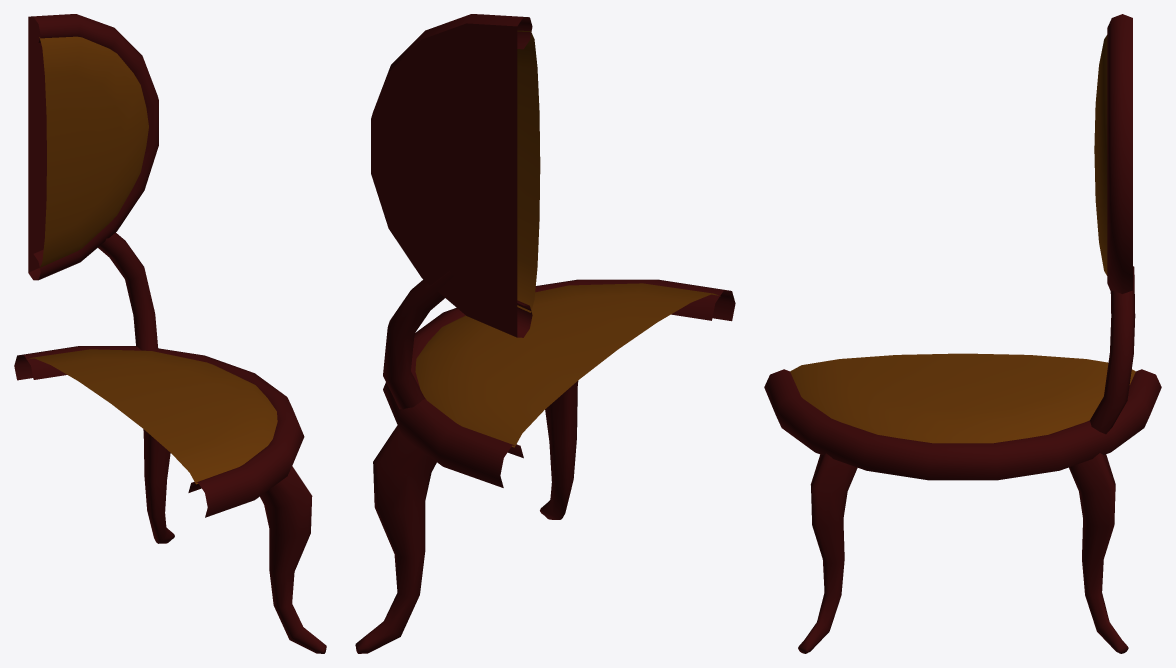
Rendered from renessaince_sofa_left.obj.
The picture shows the model from 3 angles, left to right: view 1: azimuth 30°, elevation 25°; view 2: azimuth 150°, elevation 25°; view 3: azimuth 270°, elevation 25°; orthographic projection. The views are drawn at different scales.
Visible parts, largest first — view 1: renessaince_sofa_left; view 2: renessaince_sofa_left; view 3: renessaince_sofa_left.
Boxes of the visible parts, box(x1,y1,x2,y2) form: renessaince_sofa_left: box(14, 14, 326, 653); renessaince_sofa_left: box(355, 14, 735, 653); renessaince_sofa_left: box(764, 14, 1161, 653).
Size of the model in its own units: 36.32 by 117 by 73.76.
